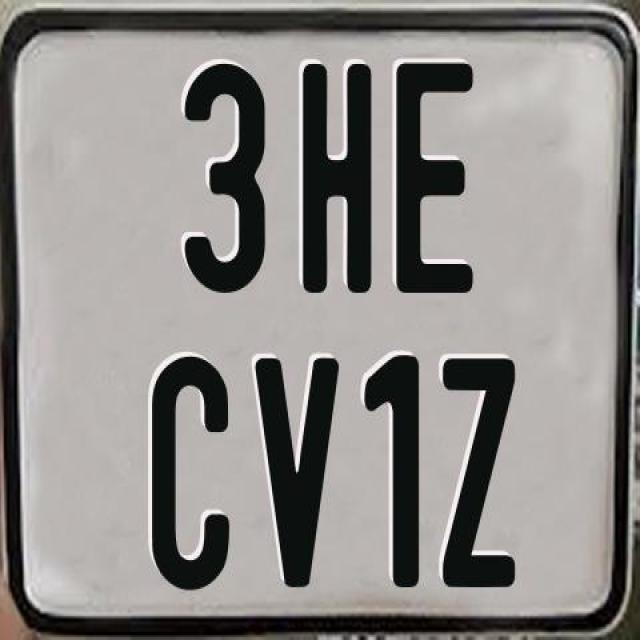1: (364, 353, 426, 588)
3: (182, 62, 270, 298)
C: (150, 356, 237, 590)
E: (393, 61, 476, 293)
H: (302, 62, 380, 296)
V: (255, 354, 342, 586)
Z: (442, 358, 514, 597)
